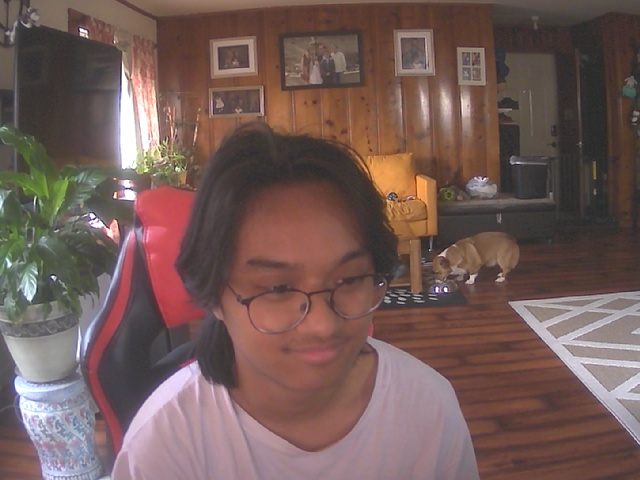happy: (204, 143, 393, 398)
